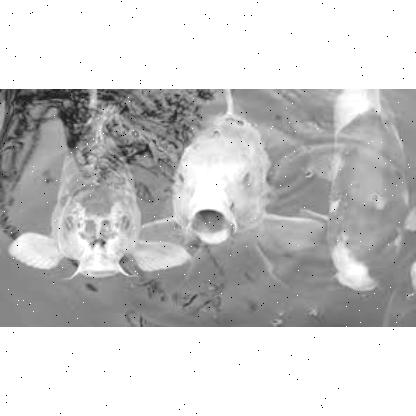ikan-mas: (32, 104, 158, 288), (317, 88, 415, 296), (171, 99, 285, 277)
